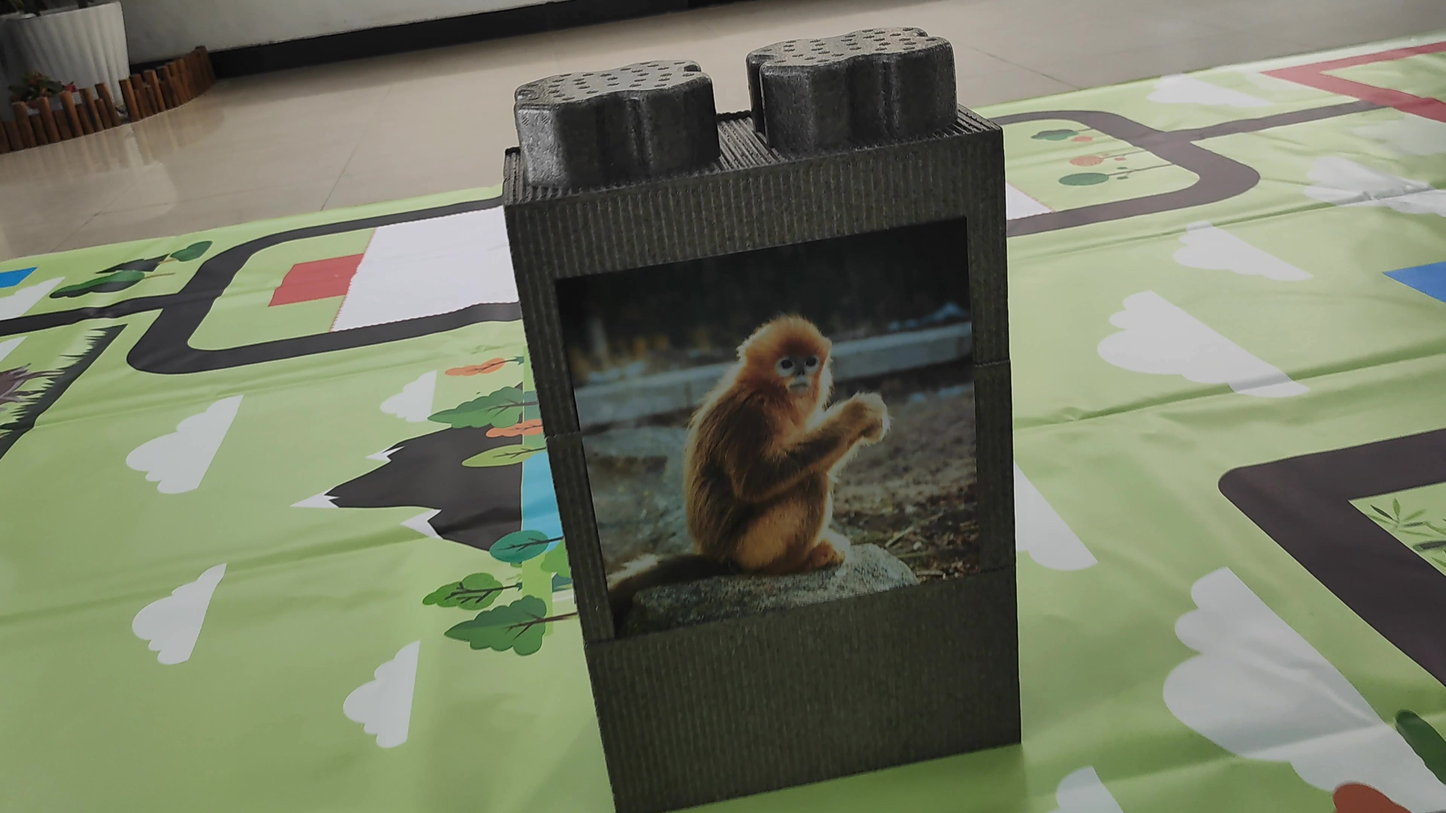monkey: (607, 276, 915, 622)
